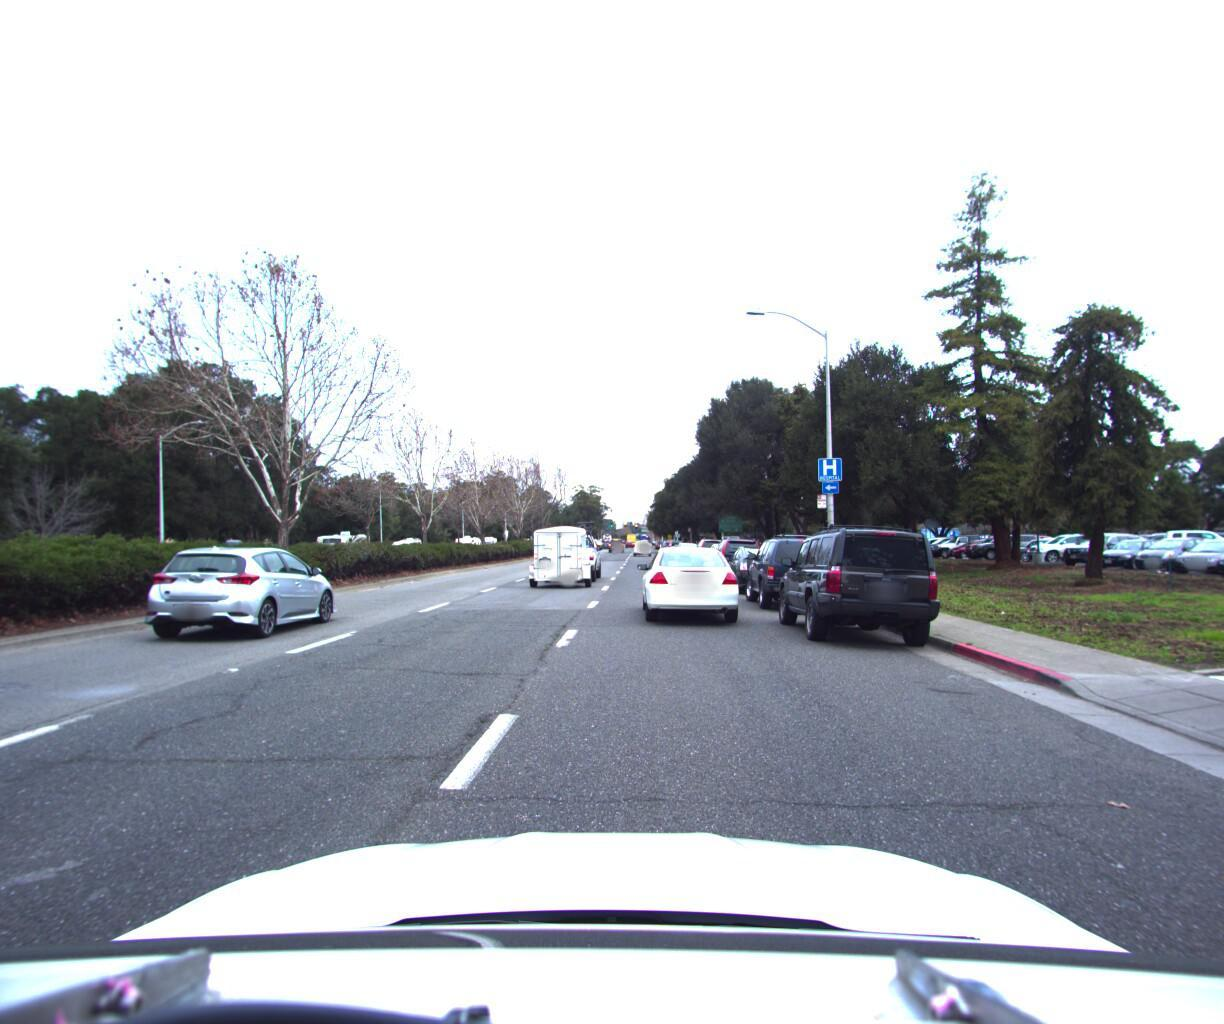car: (769, 515, 957, 652), (147, 542, 348, 646), (628, 539, 744, 628), (739, 527, 844, 608), (523, 519, 602, 588), (720, 538, 792, 593), (705, 530, 767, 585), (687, 530, 730, 568), (673, 536, 699, 556), (632, 535, 652, 551), (665, 536, 684, 551)
other_vehicle: (312, 526, 373, 568)
